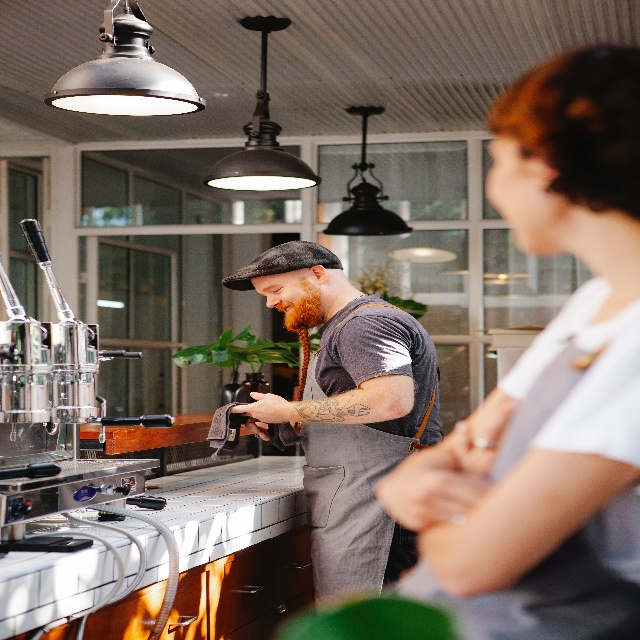Sin_guantes: (229, 392, 291, 424), (240, 416, 270, 441)
